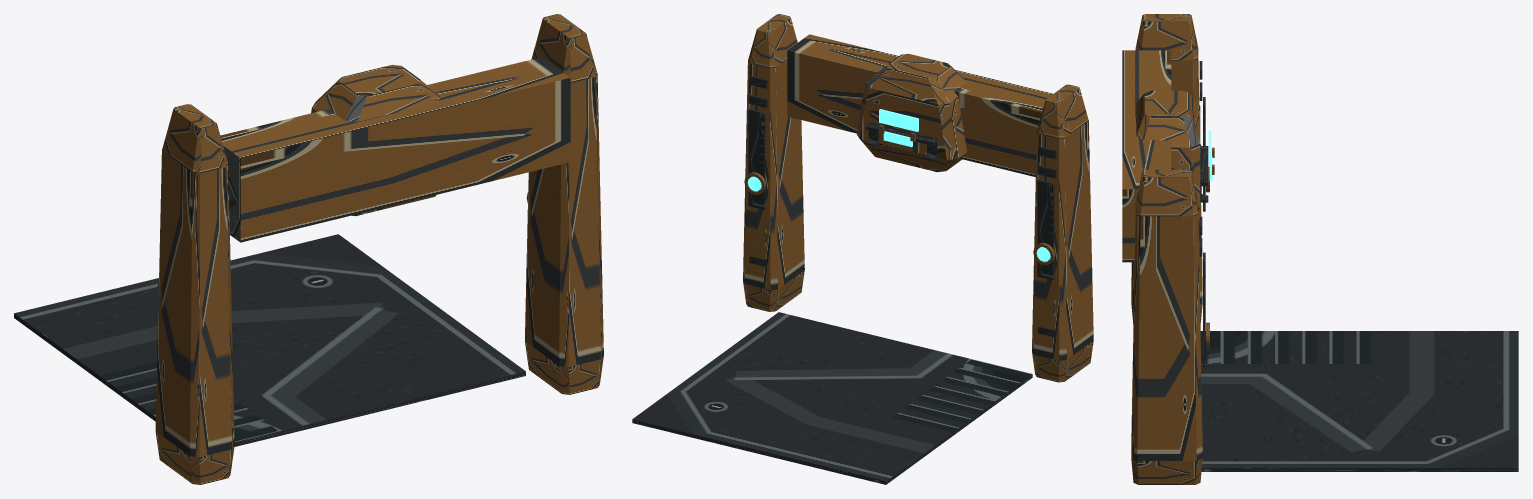
File: station_vehicle.glb
3 renders of one model, left to right at view 1: azimuth 30°, elevation 25°; view 2: azimuth 150°, elevation 25°; view 3: azimuth 270°, elevation 25°, orthographic. The views are drawn at different scales.
Parts seen in each view (by area): view 1: STProp_station_vehicle_Body; view 2: STProp_station_vehicle_Body; view 3: STProp_station_vehicle_Body.
Part boxes in pixels (x1,y1,x2,y2): STProp_station_vehicle_Body: [14, 14, 603, 484]; STProp_station_vehicle_Body: [632, 14, 1093, 484]; STProp_station_vehicle_Body: [1122, 14, 1518, 484].
Bounding box in the file's own units: 3.7 × 3.04 × 3.55.
5 materials, 4 textured.
